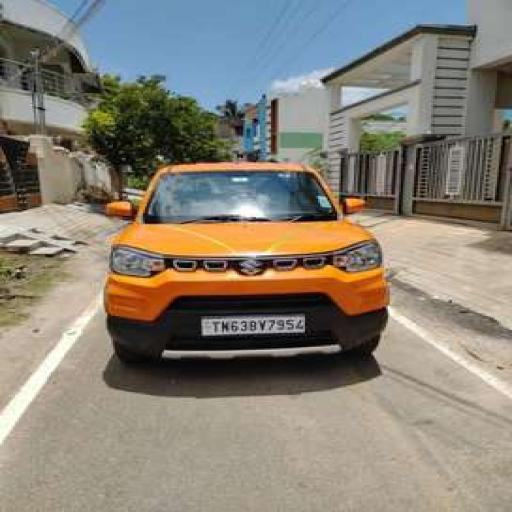license_plate`: (200, 312, 303, 334)
